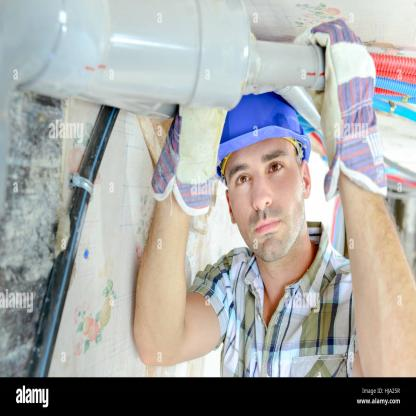PVC: (1, 0, 327, 376), (368, 53, 416, 124)
